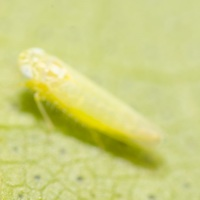insect: (18, 48, 162, 167)
